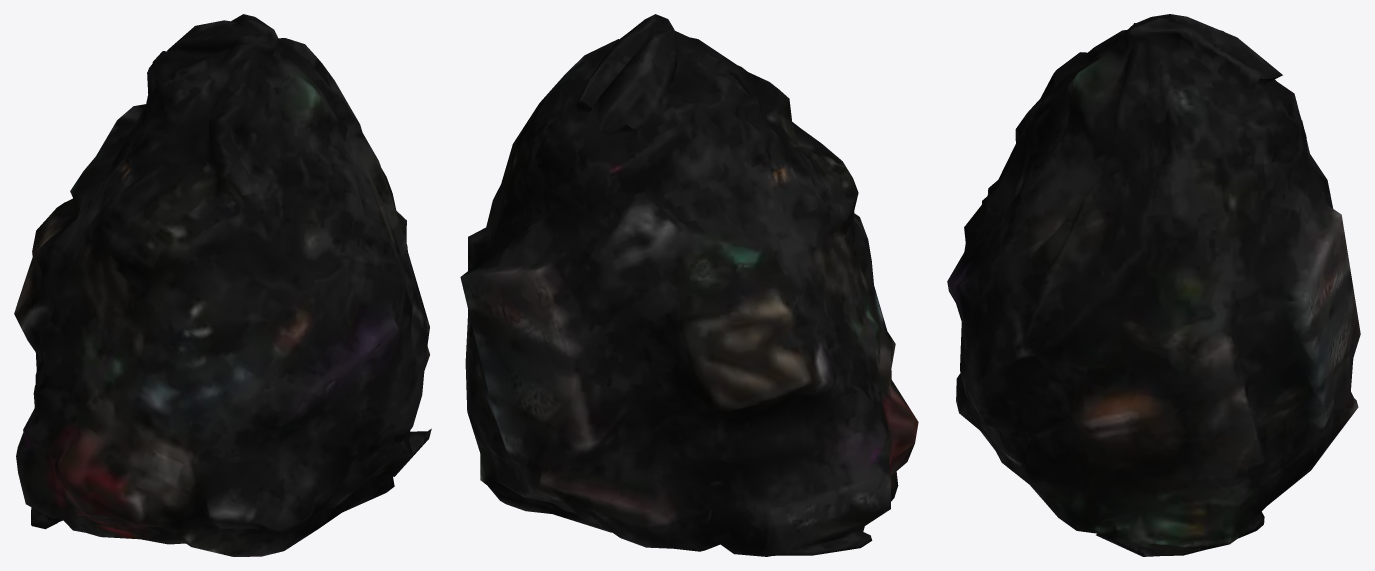
The model's file is trashbag.glb.
3 views of the same model, side by side, from view 1: azimuth 30°, elevation 25°; view 2: azimuth 150°, elevation 25°; view 3: azimuth 270°, elevation 25° (orthographic). The views are drawn at different scales.
Visible parts, largest first — view 1: trashbag; view 2: trashbag; view 3: trashbag.
Part boxes in pixels (bbox=[...]): trashbag: bbox=[14, 14, 431, 556]; trashbag: bbox=[460, 14, 918, 556]; trashbag: bbox=[947, 14, 1360, 556].
Bounding box in the file's own units: 0.528 × 0.575 × 0.4629.
Materials: 1 (1 with a texture image).
